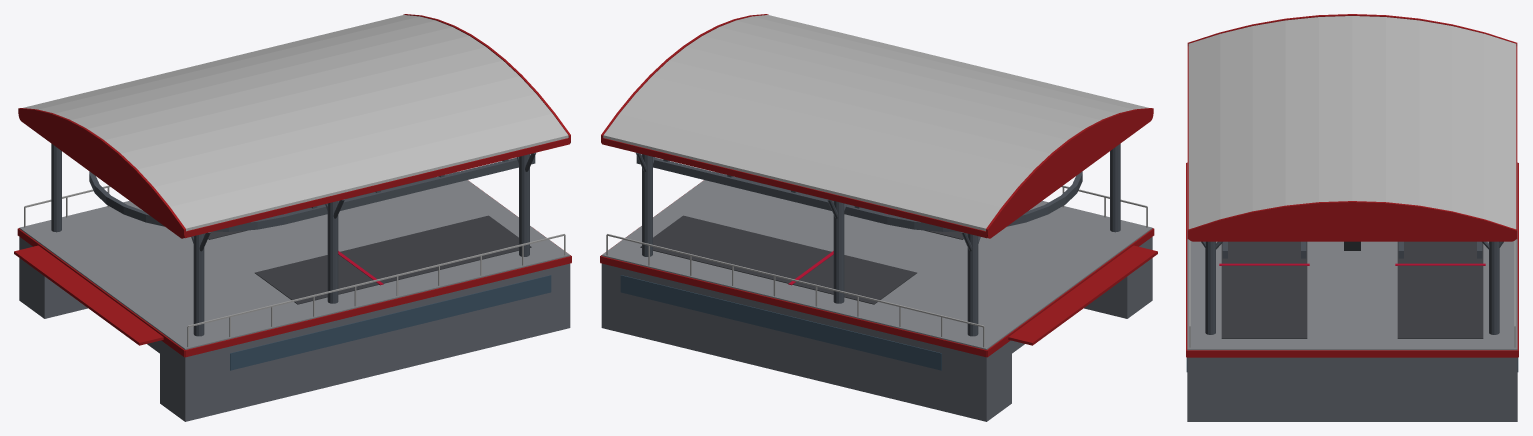
The model's file is funitel_terminal.obj.
The picture shows the model from 3 angles, left to right: view 1: azimuth 30°, elevation 25°; view 2: azimuth 150°, elevation 25°; view 3: azimuth 270°, elevation 25°; orthographic projection.
Bounding box in the file's own units: 19.36 × 9.95 × 13.62.
